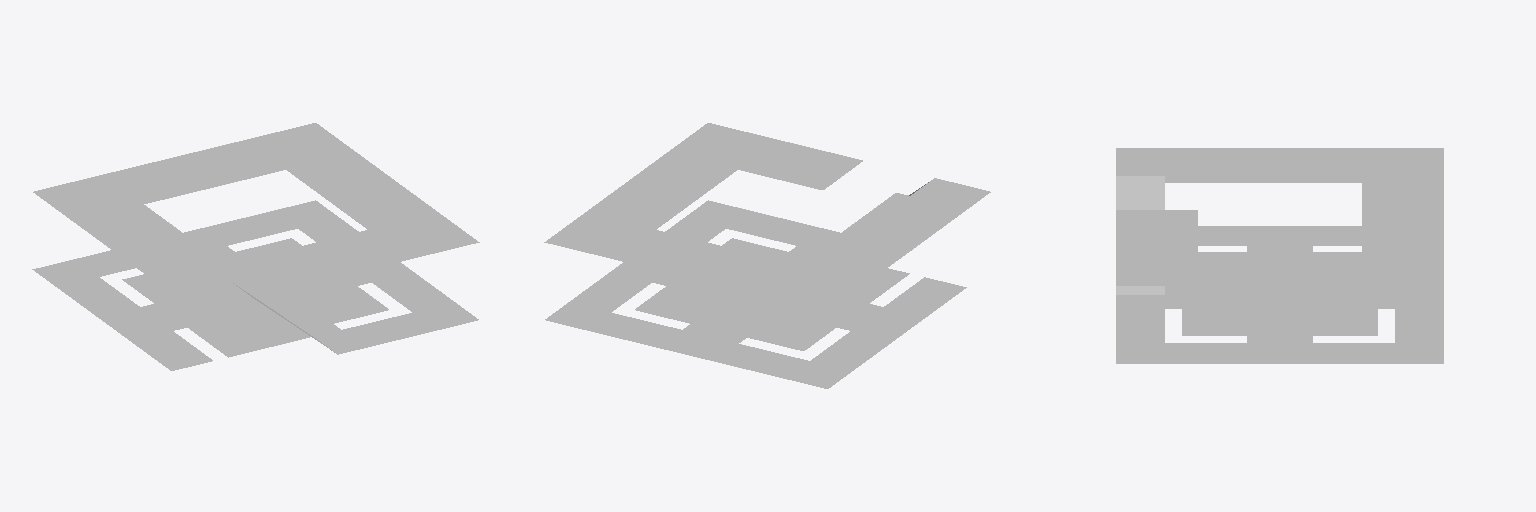
Rendered from level1navsub.obj.
3 views of the same model, side by side, from view 1: azimuth 30°, elevation 25°; view 2: azimuth 150°, elevation 25°; view 3: azimuth 270°, elevation 25° (orthographic).
Visible parts, largest first — view 1: Plane.001; view 2: Plane.001; view 3: Plane.001.
Boxes of the visible parts, x1,y1,x2,y2 form: Plane.001: [32, 123, 479, 370]; Plane.001: [544, 123, 990, 388]; Plane.001: [1116, 148, 1443, 363].
Bounding box in the file's own units: 40 × 10.47 × 40.